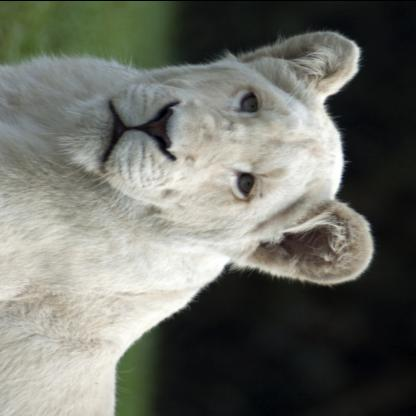lion: (54, 19, 396, 295)
